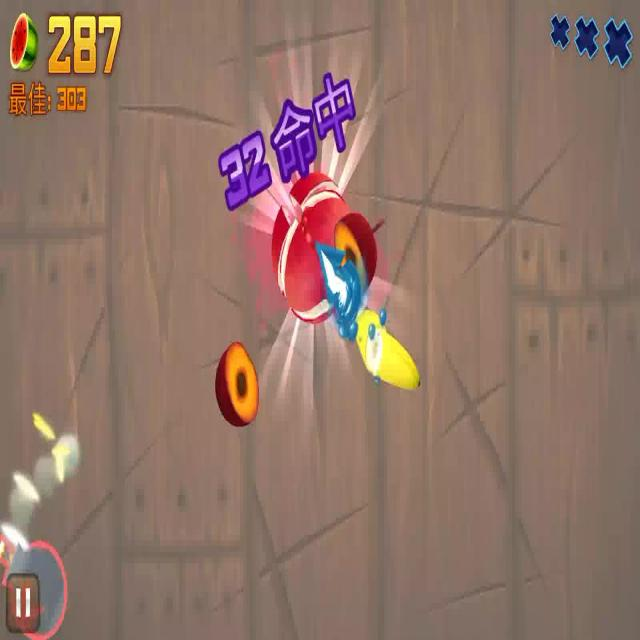bomb: (1, 521, 67, 640)
fruit: (274, 174, 352, 321), (352, 310, 423, 394), (218, 340, 259, 424), (338, 214, 375, 294)
